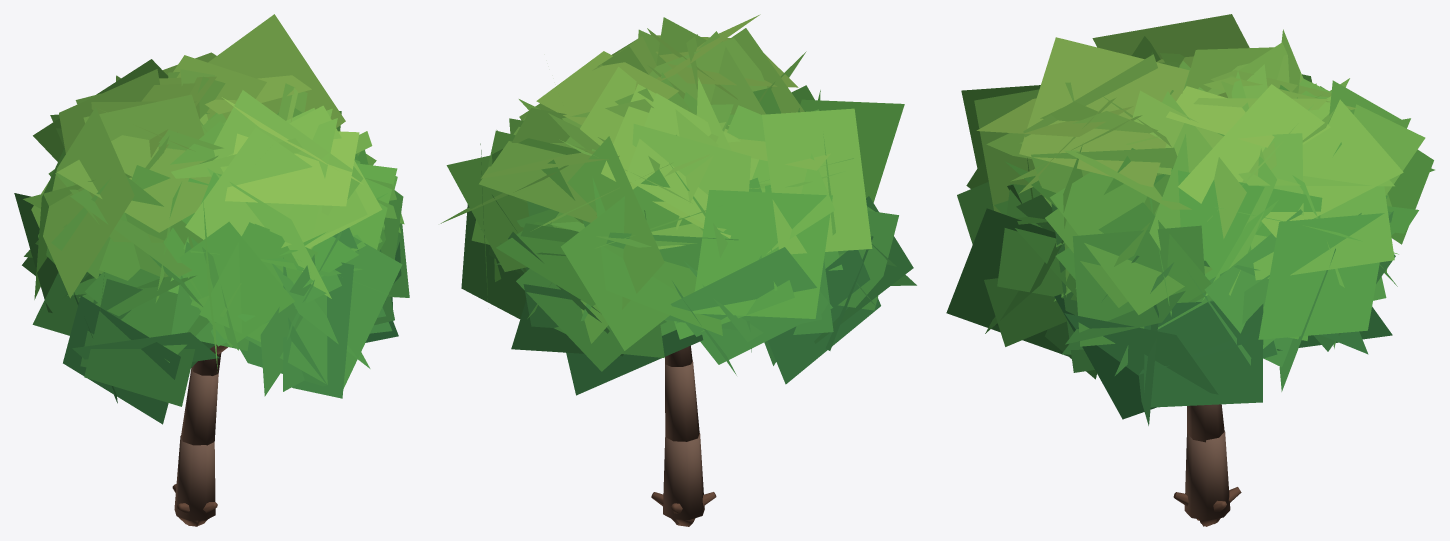
File: tree_round_b.glb
The picture shows the model from 3 angles, left to right: view 1: azimuth 30°, elevation 25°; view 2: azimuth 150°, elevation 25°; view 3: azimuth 270°, elevation 25°; orthographic projection. The views are drawn at different scales.
Visible parts, largest first — view 1: Leaves, Tree; view 2: Leaves, Tree; view 3: Leaves, Tree.
Boxes of the visible parts, <box> form: Leaves: <box>14,14,409,424</box>; Tree: <box>172,344,227,526</box>; Leaves: <box>440,14,916,395</box>; Tree: <box>651,345,716,526</box>; Leaves: <box>946,14,1434,425</box>; Tree: <box>1173,404,1241,526</box>.
Size of the model in its own units: 5.28 by 6.42 by 5.73.
